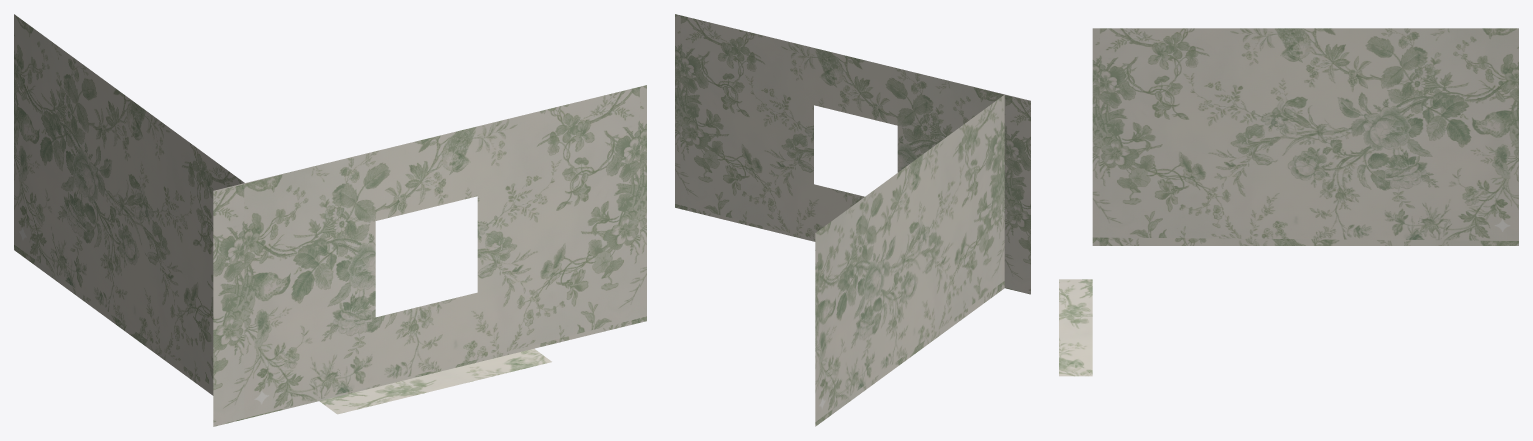
The model's file is duvarkağidi.fbx.
3 renders of one model, left to right at view 1: azimuth 30°, elevation 25°; view 2: azimuth 150°, elevation 25°; view 3: azimuth 270°, elevation 25°, orthographic. The views are drawn at different scales.
Visible parts, largest first — view 1: ev.002; view 2: ev.002; view 3: ev.002.
Part boxes in pixels (box(x1,y1,x2,y2)): ev.002: box(14, 14, 646, 426); ev.002: box(675, 14, 1030, 426); ev.002: box(1059, 28, 1518, 376).
Bounding box in the file's own units: 658 × 342 × 655.
1 material, 1 textured.
